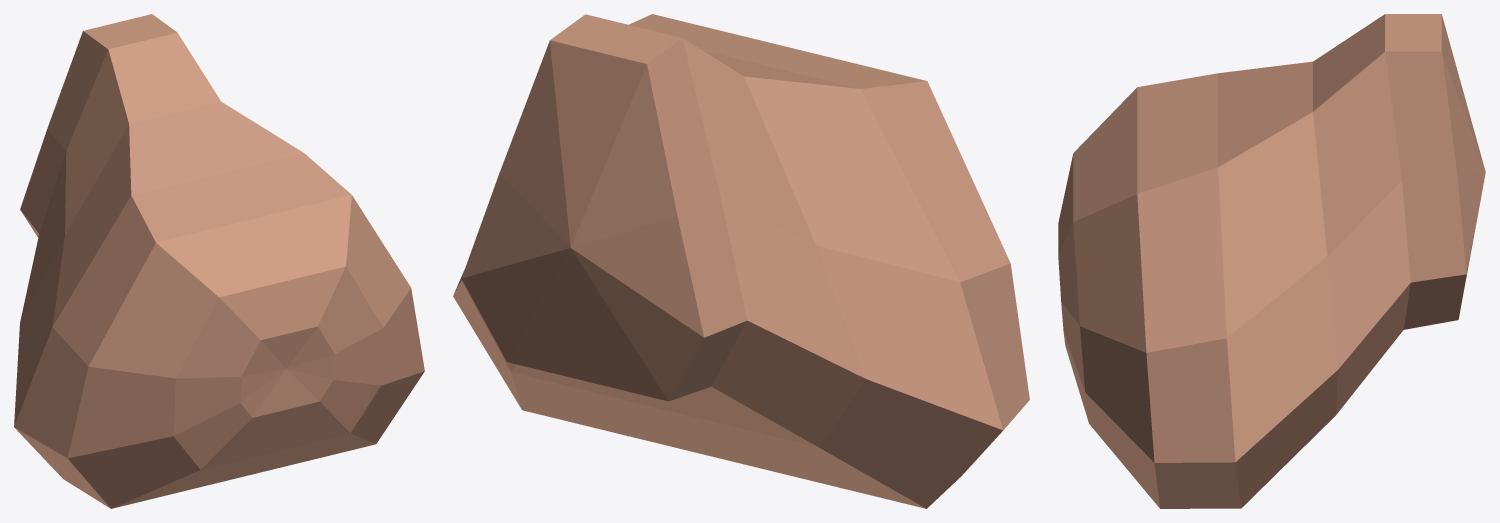
The model's file is nose_dw_bulb.glb.
3 renders of one model, left to right at view 1: azimuth 30°, elevation 25°; view 2: azimuth 150°, elevation 25°; view 3: azimuth 270°, elevation 25°, orthographic. The views are drawn at different scales.
Parts seen in each view (by area): view 1: Snout; view 2: Snout; view 3: Snout.
Part boxes in pixels (x1,y1,x2,y2): Snout: (14, 14, 424, 508); Snout: (453, 14, 1029, 508); Snout: (1058, 14, 1485, 508).
Size of the model in its own units: 0.068 by 0.0601 by 0.0576.
1 material, 1 textured.
